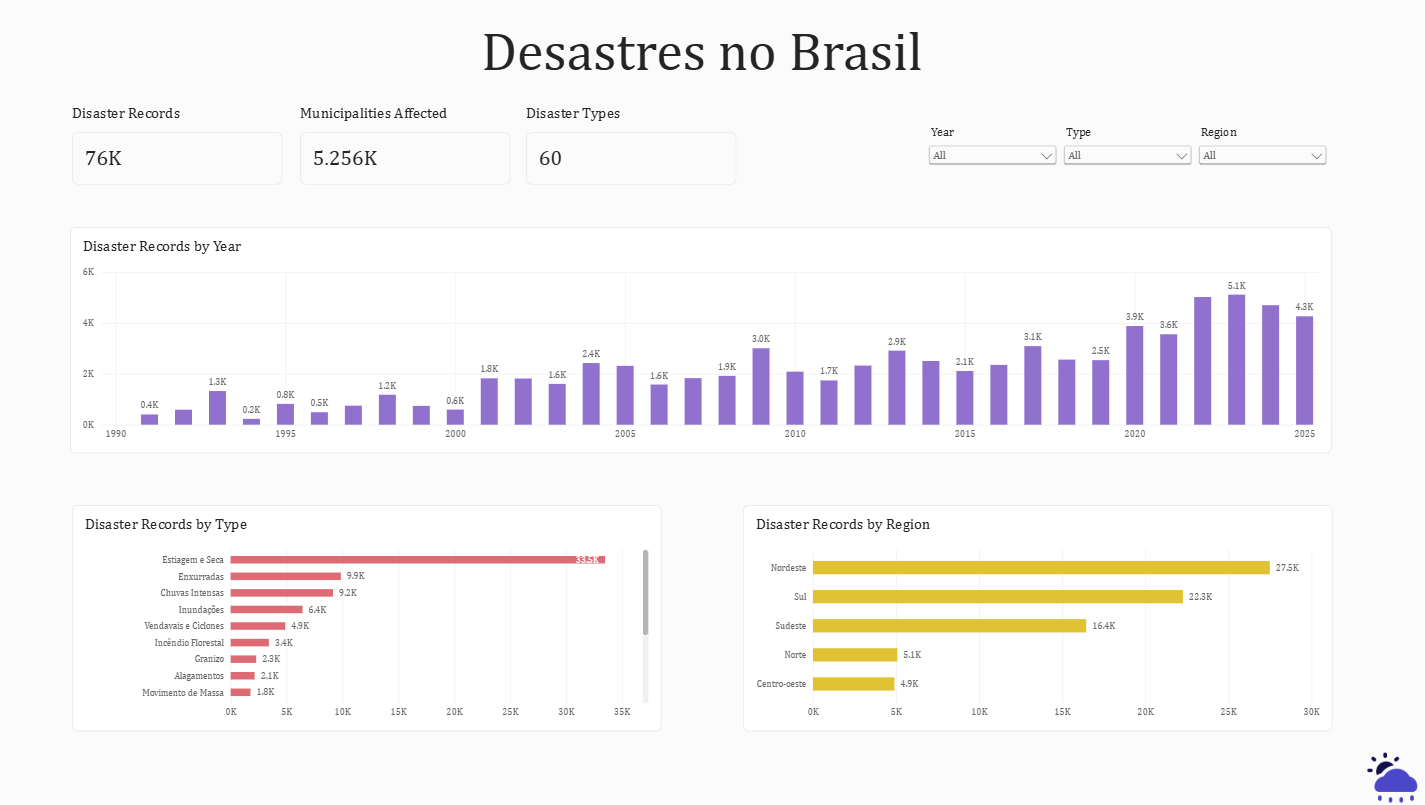

Layout of this report page (visuals, bound fields, positions):
{"tool":"powerbi","page":{"name":"Desastres no Brasil","canvas":[1920,1080],"ordinal":0},"visuals":[{"type":"cardVisual","title":"Disaster Records","fields":{"Data":["Count(fact_disasters.disaster_id)"]},"box":[121,147.6,280.2,106.1],"z":0},{"type":"cardVisual","title":"Municipalities Affected","fields":{"Data":["Count(fact_disasters.municipality_code)"]},"box":[424.5,147.6,280.2,106.1],"z":1000},{"type":"cardVisual","title":"Disaster Types","fields":{"Data":["Count(fact_disasters.cobrade_code)"]},"box":[724.6,147.6,280.2,106.1],"z":2000},{"type":"clusteredColumnChart","title":"Disaster Records by Year","fields":{"Category":["dim_date.year"],"Y":["Count(fact_disasters.disaster_id)"]},"box":[118.7,309.9,1677.7,301],"z":3000},{"type":"clusteredBarChart","title":"Disaster Records by Type","fields":{"Category":["dim_disaster_type.disaster_type_description"],"Y":["Count(fact_disasters.disaster_id)"]},"box":[121.6,679.1,784.1,301],"z":4000},{"type":"clusteredBarChart","title":"Disaster Records by Region","fields":{"Category":["dim_municipality.region"],"Y":["Count(fact_disasters.disaster_id)"]},"box":[1013.6,679.1,784.1,301],"z":5000},{"type":"textbox","box":[404.6,38.1,1109.2,137.6],"z":5001},{"type":"slicer","fields":{"Values":["dim_date.year"]},"box":[1255.4,175.2,179.5,78.2],"z":5002},{"type":"slicer","fields":{"Values":["dim_disaster_type.disaster_type_description"]},"box":[1434.9,175.2,179.5,78.2],"z":5003},{"type":"slicer","fields":{"Values":["dim_municipality.region"]},"box":[1614.5,175.2,179.5,78.2],"z":5004},{"type":"image","box":[1834.1,1004.2,86.5,75.8],"z":5006}]}

Visuals, with their boxes in screenshot pixels (x1, y1, x2, y2), scaled from the page's 1920x1080 canvas onto the 1425x805 screenshot:
"Disaster Records" cardVisual: bbox=(90, 110, 298, 189)
"Municipalities Affected" cardVisual: bbox=(315, 110, 523, 189)
"Disaster Types" cardVisual: bbox=(538, 110, 746, 189)
"Disaster Records by Year" clusteredColumnChart: bbox=(88, 231, 1333, 455)
"Disaster Records by Type" clusteredBarChart: bbox=(90, 506, 672, 731)
"Disaster Records by Region" clusteredBarChart: bbox=(752, 506, 1334, 731)
textbox: bbox=(300, 28, 1124, 131)
slicer - dim_date.year: bbox=(932, 131, 1065, 189)
slicer - dim_disaster_type.disaster_type_description: bbox=(1065, 131, 1198, 189)
slicer - dim_municipality.region: bbox=(1198, 131, 1331, 189)
image: bbox=(1361, 749, 1424, 804)
